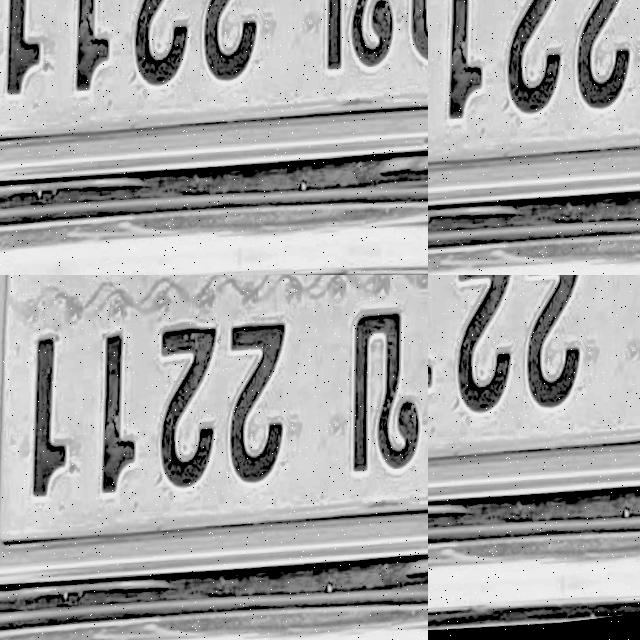license-plate: (428, 275, 640, 549), (326, 74, 428, 275)
